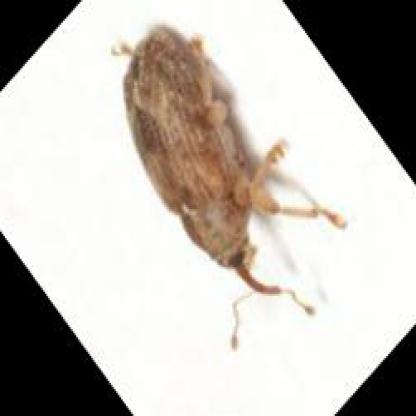ash weevil: (122, 21, 342, 294)
